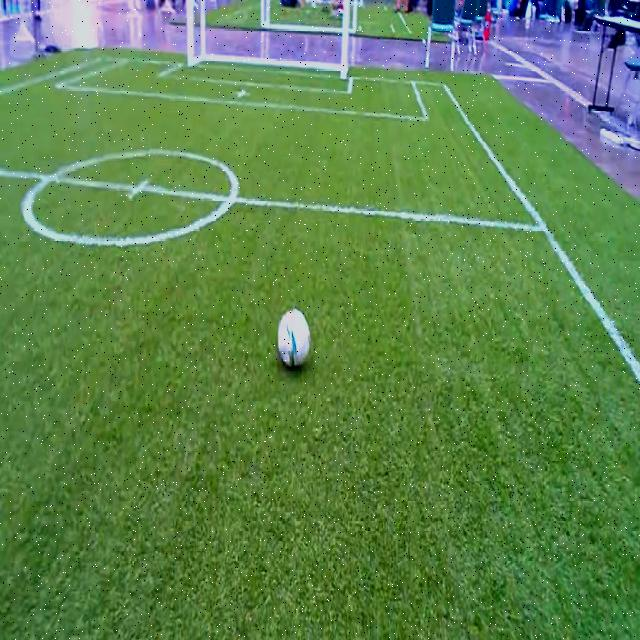ball: (278, 309, 310, 366)
